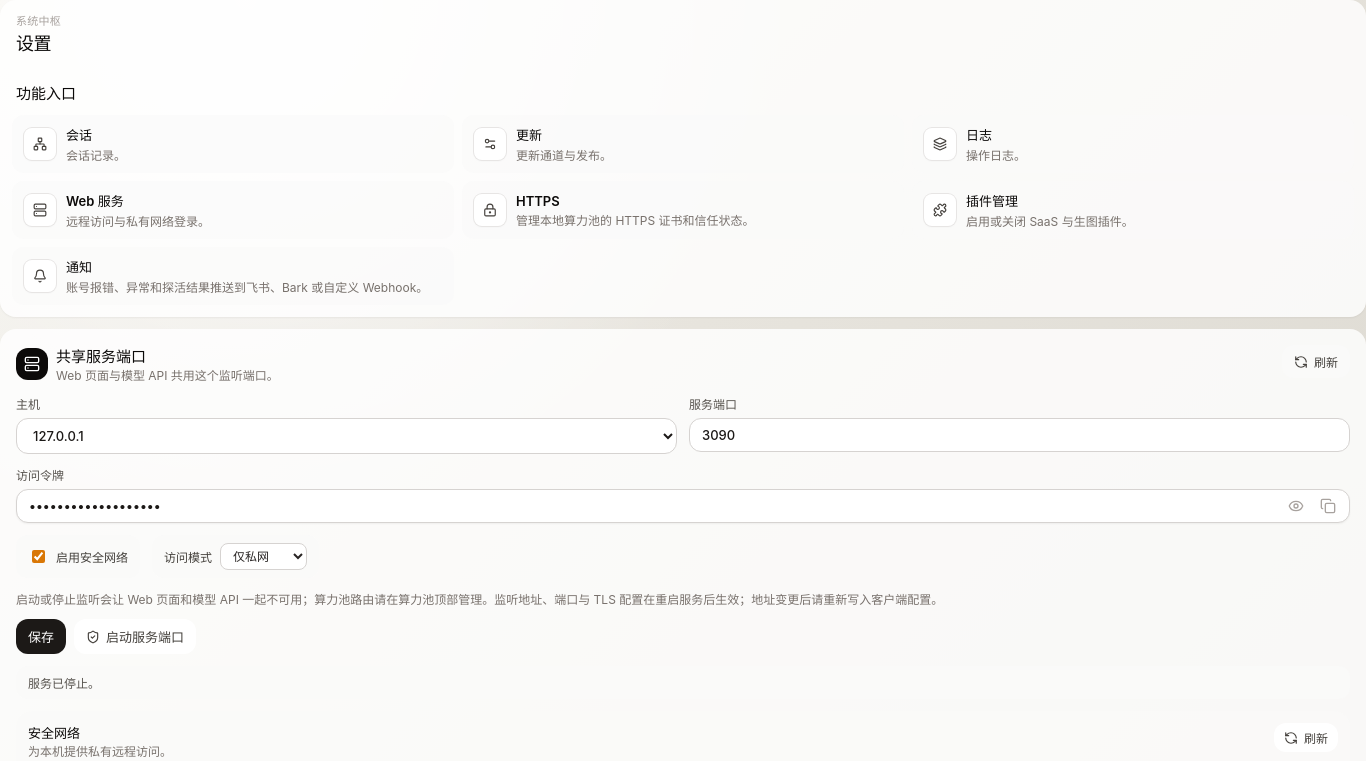
Test: SettingsScreen › directs shared-listener TLS changes to the Web Service configuration
Click the button "HTTPS 管理本地算力池的 HTTPS 证书和信任状态。" at (683, 210), box 462,181 -> 904,239
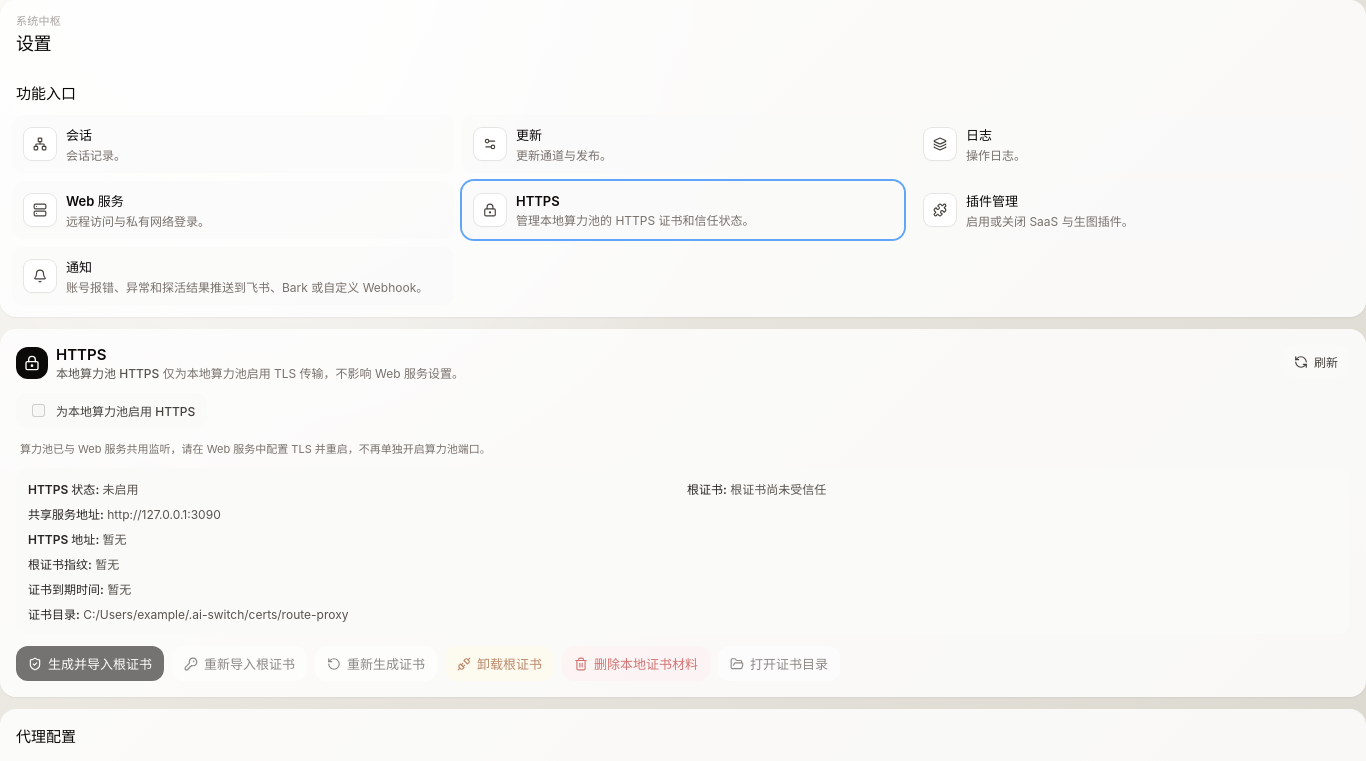
Check: the checkbox labelled "为本地算力池启用 HTTPS" is disabled, box 32,404 -> 45,417
Check: the text "算力池已与 Web 服务共用监听，请在 Web 服务中配置 TLS 并重启，不再单独开启算力池端口。" is shown, box 20,442 -> 491,456
Check: the button "生成并导入根证书" is disabled, box 16,646 -> 164,681
